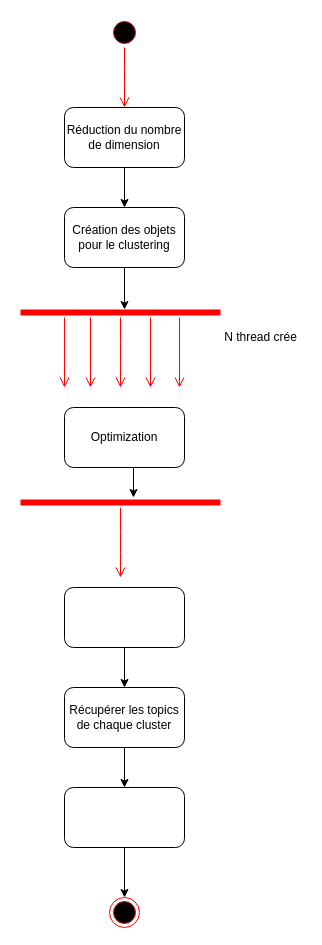
Image size: 322x945. Some labels were removed from this diagram. Here are the shapes that lost their labels. From the top down, the centre of each, then its label:
the point at 124,617: Récupère les meilleurs paramètres
the point at 124,817: Assignation des topics et des coordonnés aux articles
